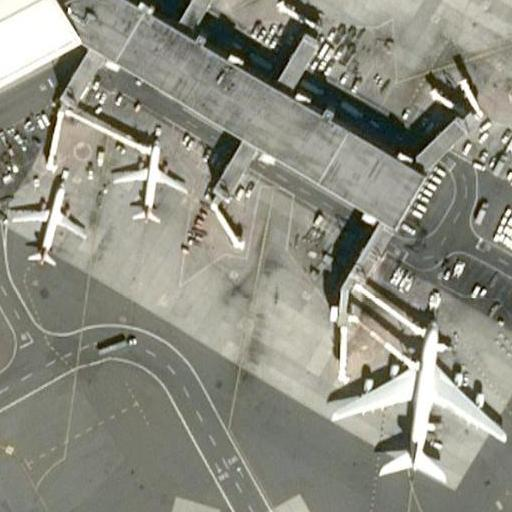Aircraft: (327, 305, 509, 488), (7, 172, 86, 266), (108, 137, 185, 226)
